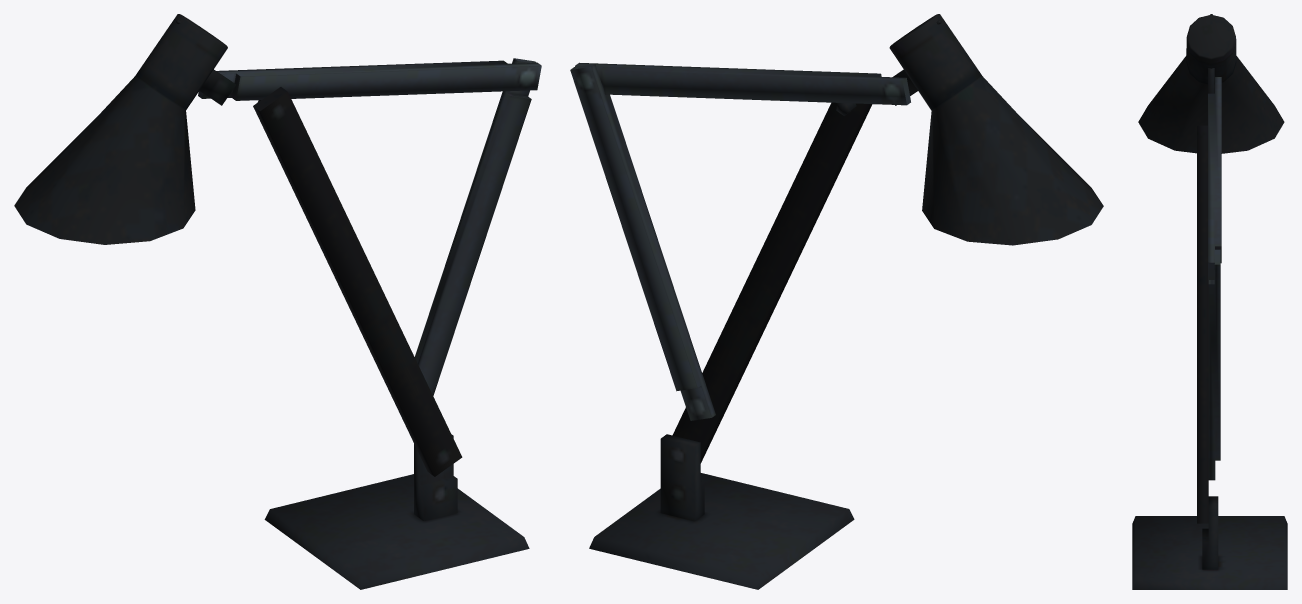
Rendered from Lamp_Desk02.FBX.
3 renders of one model, left to right at view 1: azimuth 30°, elevation 25°; view 2: azimuth 150°, elevation 25°; view 3: azimuth 270°, elevation 25°, orthographic. The views are drawn at different scales.
Visible parts, largest first — view 1: Lamp_Desk02; view 2: Lamp_Desk02; view 3: Lamp_Desk02.
Part boxes in pixels (x1,y1,x2,y2): Lamp_Desk02: (14, 14, 541, 589); Lamp_Desk02: (570, 14, 1103, 589); Lamp_Desk02: (1132, 14, 1287, 589).
Size of the model in its own units: 0.5685 by 0.5995 by 0.1839.
